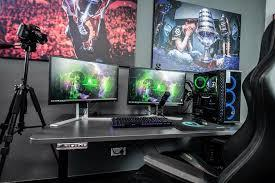keyboard: (111, 115, 172, 127)
